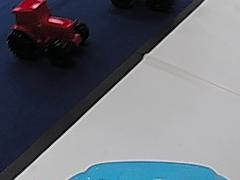Tracktor: (6, 0, 90, 61)
